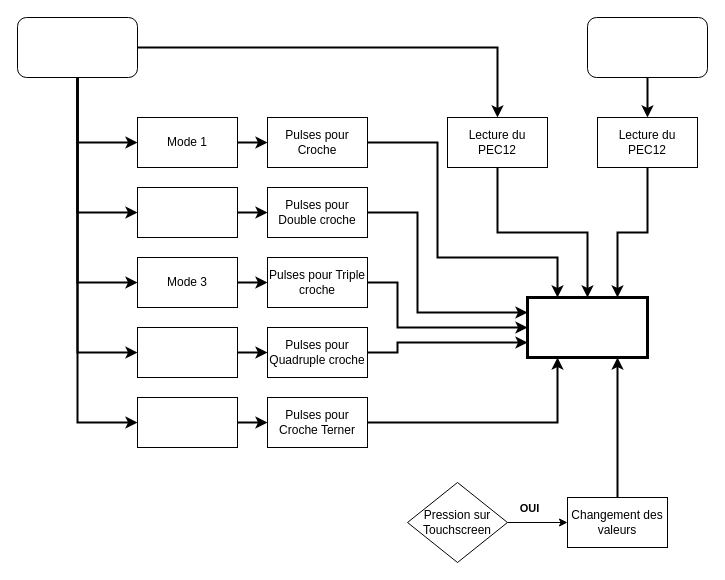
The diagram is 725 pixels wide and 580 high, and some of its shapes have lost their labels. Here are the shapes that lost their labels. From the top down, the centre of each, then its label:
(x=77, y=47): Sélection du mode
(x=647, y=47): Réglage BPM (+ / -)
(x=187, y=212): Mode 2
(x=587, y=327): Affichage sur l'écran
(x=187, y=352): Mode 4
(x=187, y=422): Mode 5
